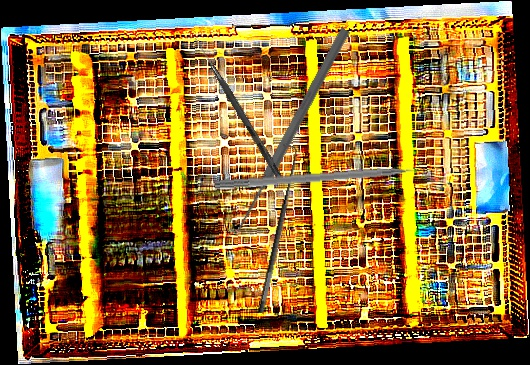Hook Surgical: (190, 36, 285, 180), (244, 140, 305, 315)
Pusher: (231, 25, 352, 236), (214, 164, 440, 192)
